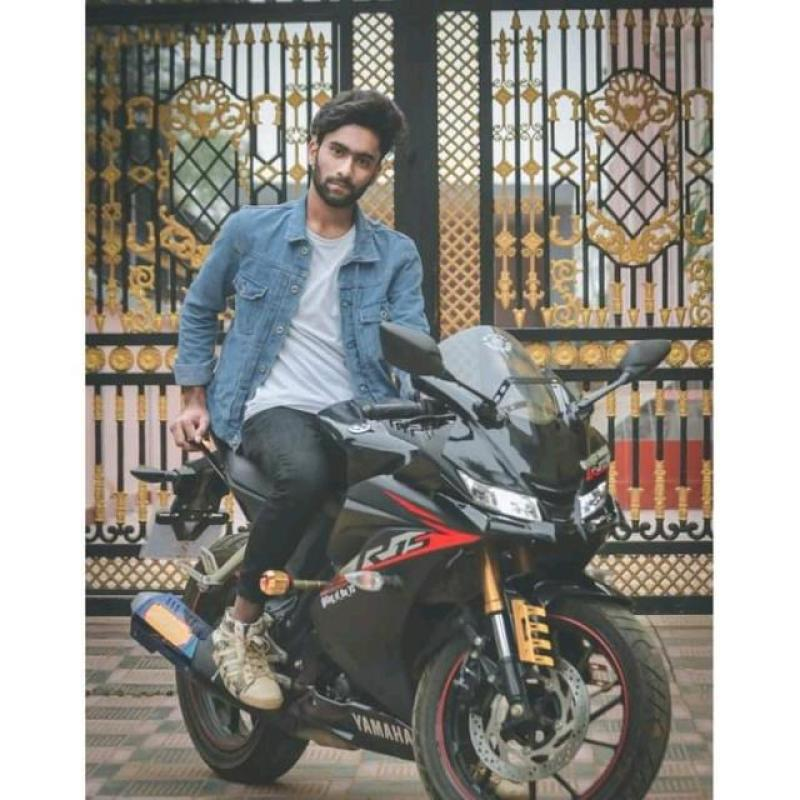nohelmet: (292, 95, 410, 219)
